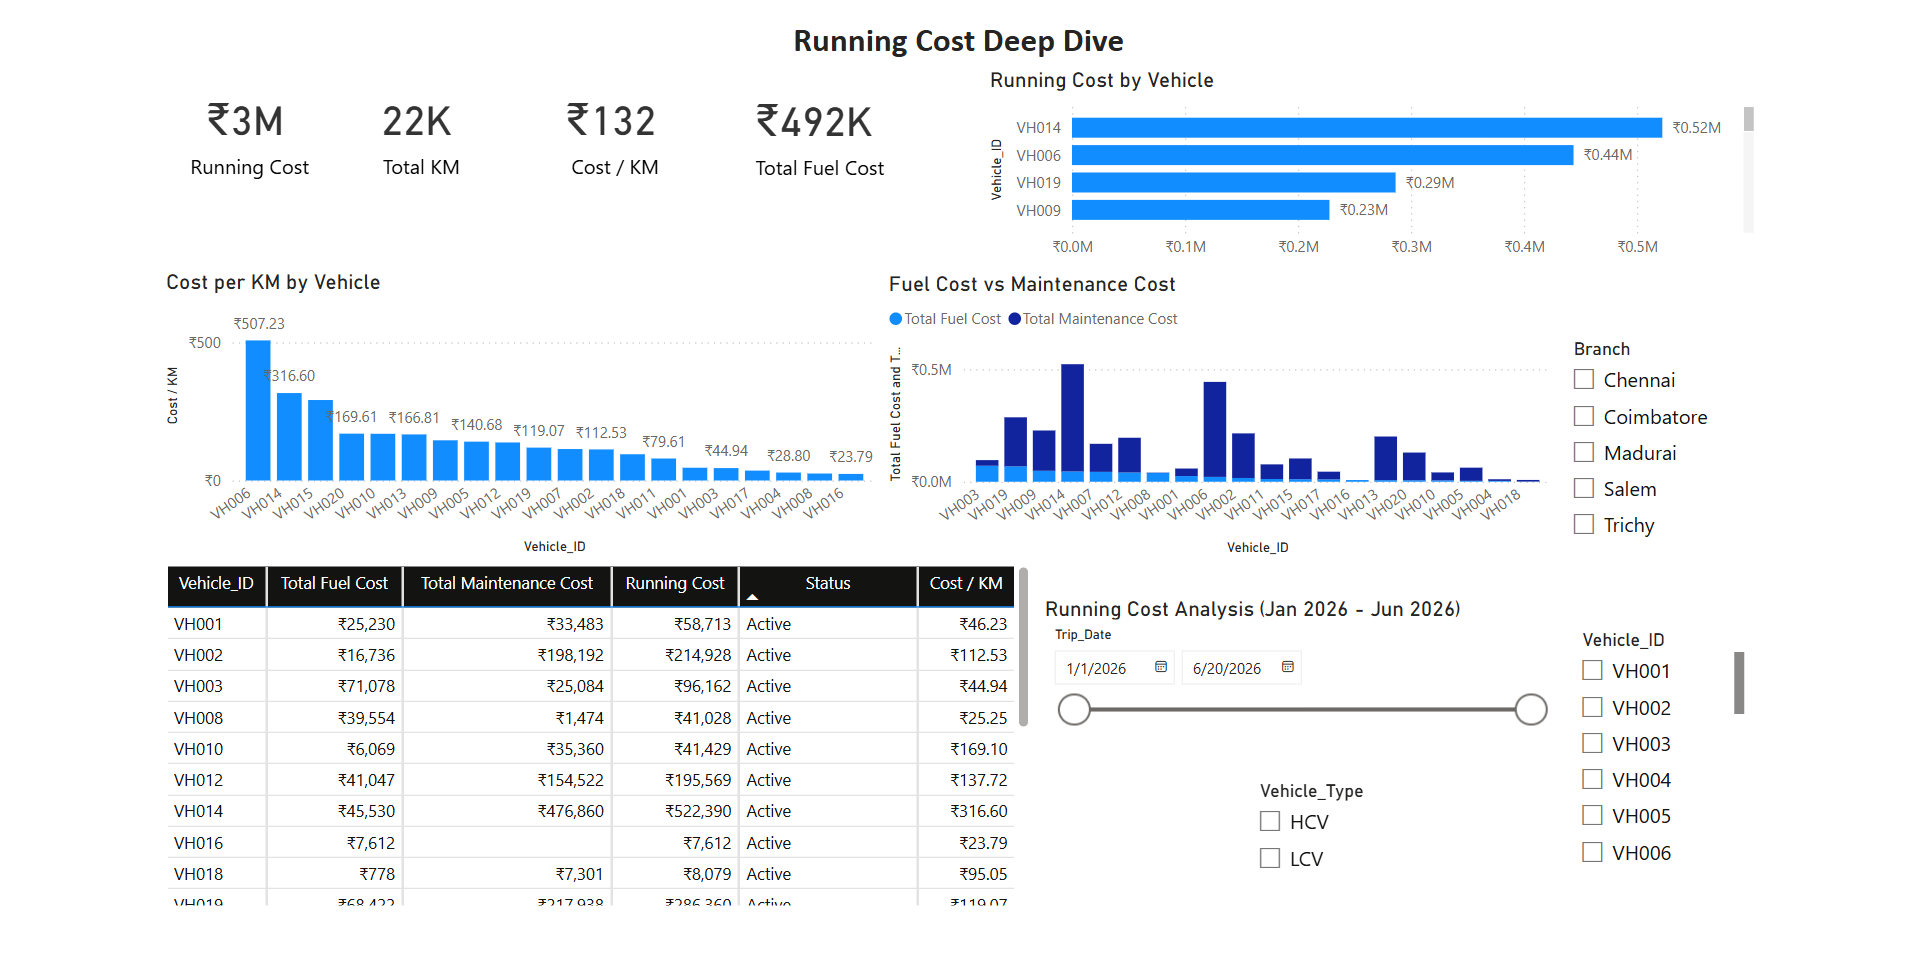

The page's visual inventory and layout, read from the dashboard file:
{"tool":"powerbi","page":{"name":"Page 5","canvas":[1280,720],"ordinal":4},"visuals":[{"type":"textbox","box":[498.9,0,280,42.8],"z":0},{"type":"advanceCardE03760C5AB684758B56AA29F9E6C257B","fields":{"mainMeasure":["Driver_Master.Running Cost"]},"box":[0,42.8,144.3,108.8],"z":1000},{"type":"advanceCardE03760C5AB684758B56AA29F9E6C257B","fields":{"mainMeasure":["Driver_Master.Total KM"]},"box":[149.2,42.8,121.1,108.8],"z":2000},{"type":"advanceCardE03760C5AB684758B56AA29F9E6C257B","fields":{"mainMeasure":["Driver_Master.Cost per KM"]},"box":[270.3,42.5,188,109.8],"z":3000},{"type":"advanceCardE03760C5AB684758B56AA29F9E6C257B","fields":{"mainMeasure":["Driver_Master.Total Fuel Cost"]},"box":[458.5,44.9,138.8,108],"z":4000},{"type":"clusteredBarChart","title":"Running Cost by Vehicle","fields":{"Category":["Vehicle_Master.Vehicle_ID"],"Y":["Driver_Master.Running Cost"]},"box":[659.1,43.5,621.2,161.3],"z":5000},{"type":"clusteredColumnChart","title":"Cost per KM by Vehicle","fields":{"Category":["Vehicle_Master.Vehicle_ID"],"Y":["Driver_Master.Cost per KM"]},"box":[0,204.7,577.7,232.8],"z":6000},{"type":"columnChart","title":"Fuel Cost vs Maintenance Cost","fields":{"Category":["Vehicle_Master.Vehicle_ID"],"Y":["Driver_Master.Total Fuel Cost","Driver_Master.Total Maintenance Cost"]},"box":[577.7,206.1,539.9,232.8],"z":7000},{"type":"tableEx","fields":{"Values":["Vehicle_Master.Vehicle_ID","Driver_Master.Total Fuel Cost","Driver_Master.Total Maintenance Cost","Driver_Master.Running Cost","Vehicle_Master.Status","Driver_Master.Cost per KM"]},"box":[0,437.5,699.7,281.9],"z":8000},{"type":"slicer","title":"Running Cost Analysis (Jan 2026 - Jun 2026)","fields":{"Values":["Trip_Log.Trip_Date"]},"box":[702.5,465.6,415.1,143],"z":9000},{"type":"slicer","fields":{"Values":["Vehicle_Master.Vehicle_ID"]},"box":[1125.3,487.5,146.6,199.1],"z":10000},{"type":"slicer","fields":{"Values":["Vehicle_Master.Vehicle_Type"]},"box":[866.6,609.1,120.4,93],"z":11000},{"type":"slicer","fields":{"Values":["Driver_Master.Branch"]},"box":[1117.6,255.2,162.7,232.8],"z":12000}]}

Visuals, with their boxes on the page's 1280x720 design canvas (x1, y1, x2, y2). These are canvas units, not pixel positions in the 1918x977 screenshot, which may show the page scaled, cropped or inside an application window:
textbox: [x1=499, y1=0, x2=779, y2=43]
advanceCardE03760C5AB684758B56AA29F9E6C257B - Driver_Master.Running Cost: [x1=0, y1=43, x2=144, y2=152]
advanceCardE03760C5AB684758B56AA29F9E6C257B - Driver_Master.Total KM: [x1=149, y1=43, x2=270, y2=152]
advanceCardE03760C5AB684758B56AA29F9E6C257B - Driver_Master.Cost per KM: [x1=270, y1=42, x2=458, y2=152]
advanceCardE03760C5AB684758B56AA29F9E6C257B - Driver_Master.Total Fuel Cost: [x1=458, y1=45, x2=597, y2=153]
"Running Cost by Vehicle" clusteredBarChart: [x1=659, y1=44, x2=1280, y2=205]
"Cost per KM by Vehicle" clusteredColumnChart: [x1=0, y1=205, x2=578, y2=438]
"Fuel Cost vs Maintenance Cost" columnChart: [x1=578, y1=206, x2=1118, y2=439]
tableEx - Vehicle_Master.Vehicle_ID x Driver_Master.Total Fuel Cost: [x1=0, y1=438, x2=700, y2=719]
"Running Cost Analysis (Jan 2026 - Jun 2026)" slicer: [x1=702, y1=466, x2=1118, y2=609]
slicer - Vehicle_Master.Vehicle_ID: [x1=1125, y1=488, x2=1272, y2=687]
slicer - Vehicle_Master.Vehicle_Type: [x1=867, y1=609, x2=987, y2=702]
slicer - Driver_Master.Branch: [x1=1118, y1=255, x2=1280, y2=488]
